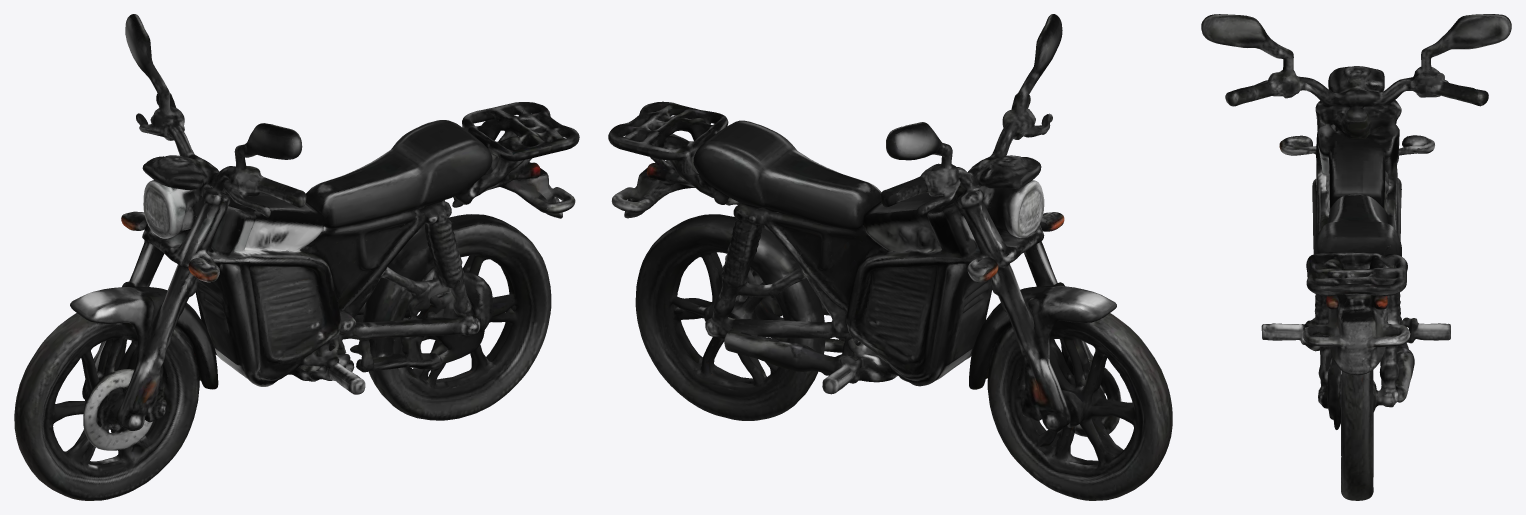
File: traffic_bike_cd70.mobile.glb
3 renders of one model, left to right at view 1: azimuth 30°, elevation 25°; view 2: azimuth 150°, elevation 25°; view 3: azimuth 270°, elevation 25°, orthographic. The views are drawn at different scales.
Parts seen in each view (by area): view 1: geometry_0; view 2: geometry_0; view 3: geometry_0.
Boxes of the visible parts, x1=… form: geometry_0: x1=14, y1=14, x2=579, y2=500; geometry_0: x1=608, y1=14, x2=1172, y2=500; geometry_0: x1=1201, y1=14, x2=1511, y2=500.
Size of the model in its own units: 0.9999 by 0.7076 by 0.5412.
Materials: 1 (1 with a texture image).
